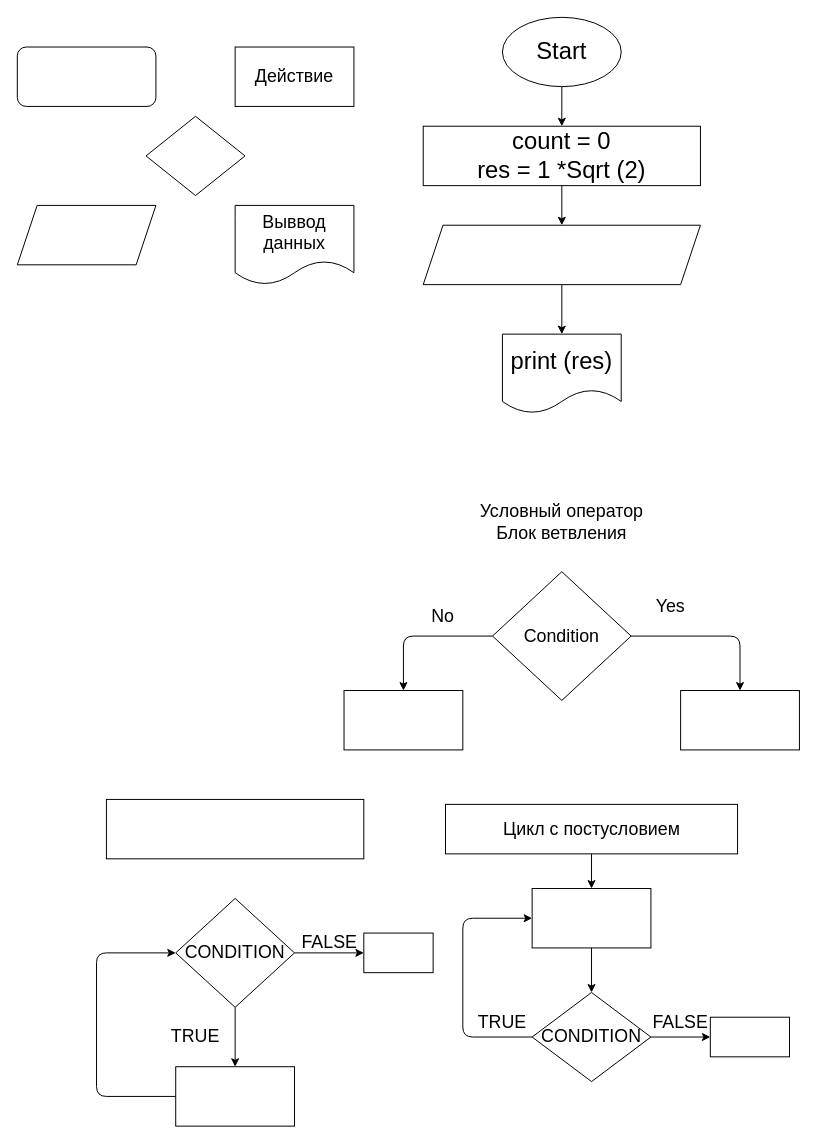
Image size: 817x1143. Some labels were removed from this diagram. The centre of each missing label's shape, as x and y in pixels:
count: point (561, 254)
Ввод данных: point (86, 234)
Начало и конец алгоритма: point (86, 76)
Условие: point (195, 155)
Цикл с предусловием: point (234, 828)
